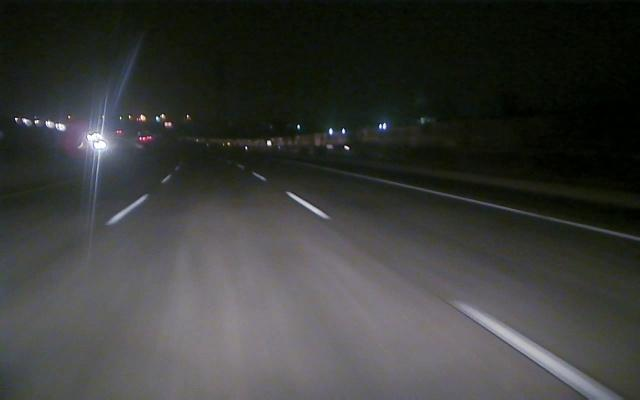lane: (283, 189, 621, 398), (352, 173, 637, 242), (104, 175, 172, 227)
